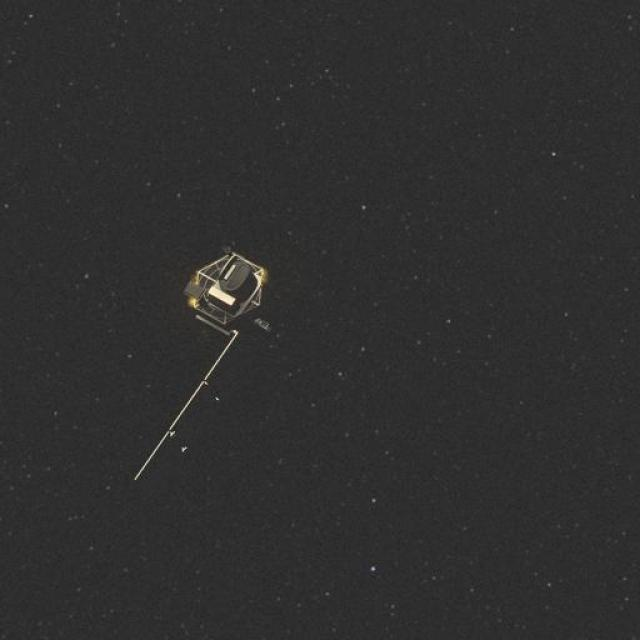earth_observation_sat_1: (118, 215, 327, 492)
